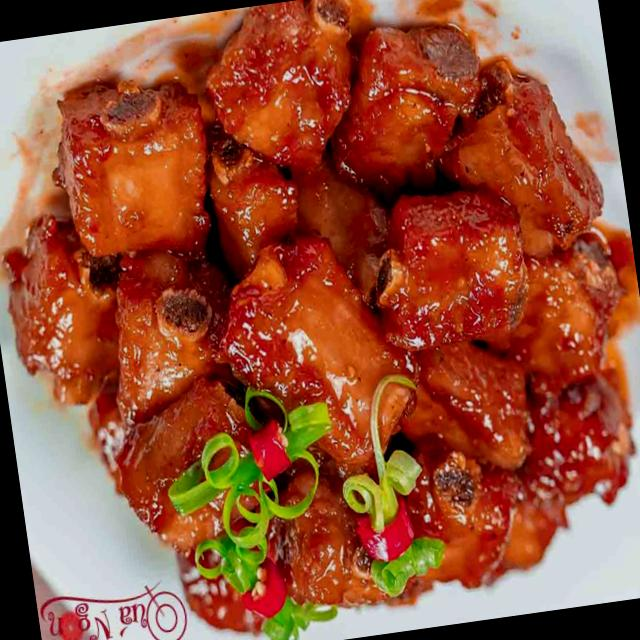suon xao: (7, 0, 632, 640)
